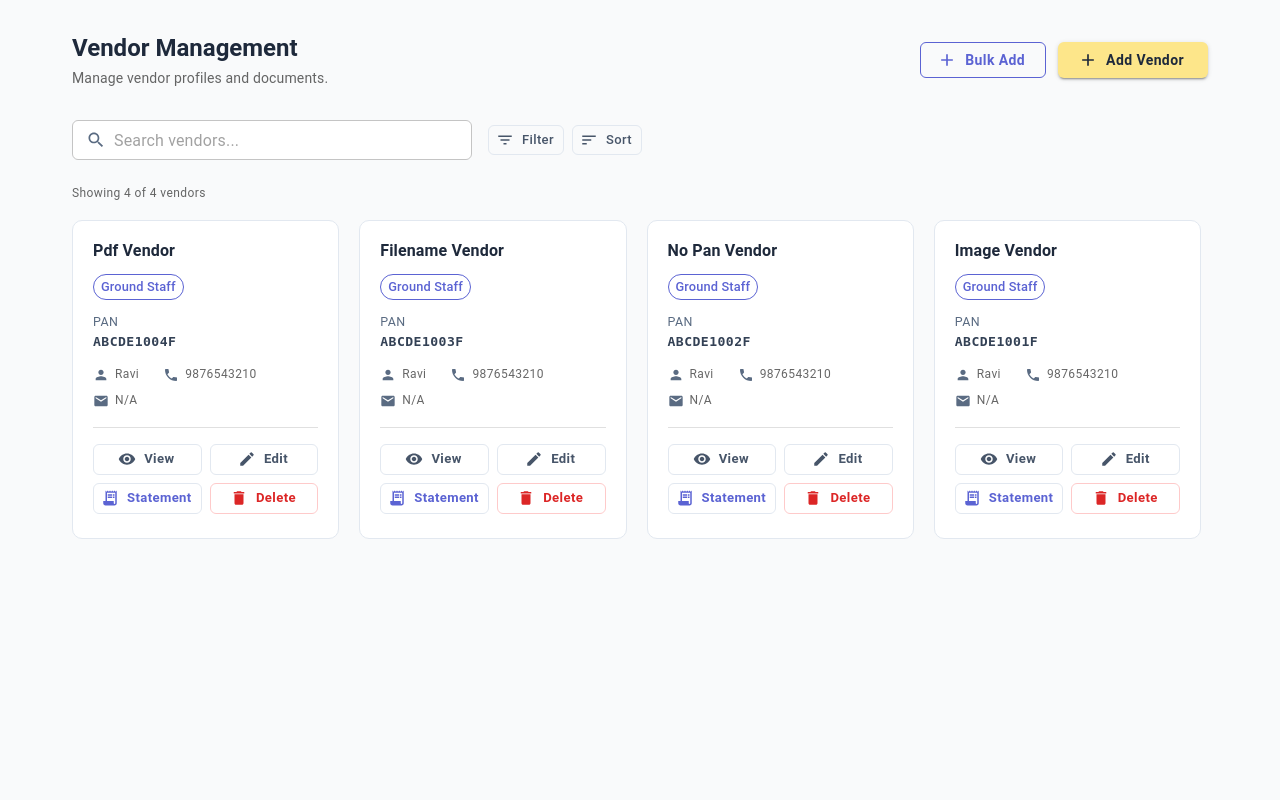
Test: edit form › a non-image stored PAN shows the file chip with its name, with no fetch
Click the button "Edit" below "ABCDE1003F": {"x": 551, "y": 459} [497,444,606,475]
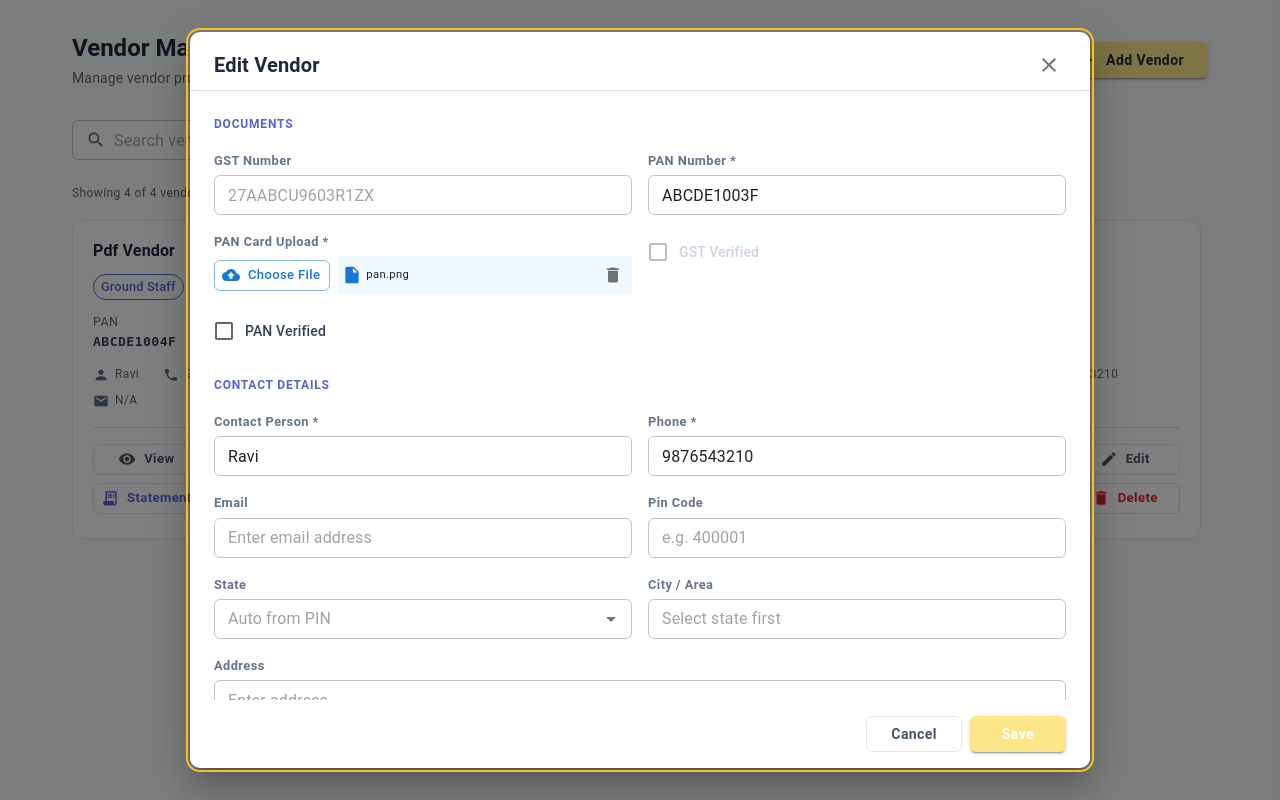
Expected: the text "pan.png" is shown, [366,268,409,281]
